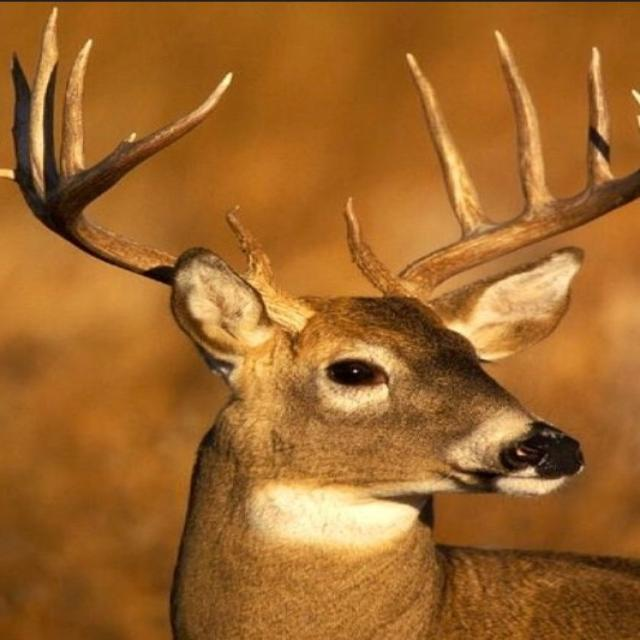L-G1: (342, 196, 395, 291)
L-G2: (404, 50, 491, 237)
L-G3: (492, 28, 556, 213)
L-G4: (587, 44, 615, 186)
R-G1: (225, 204, 273, 293)
